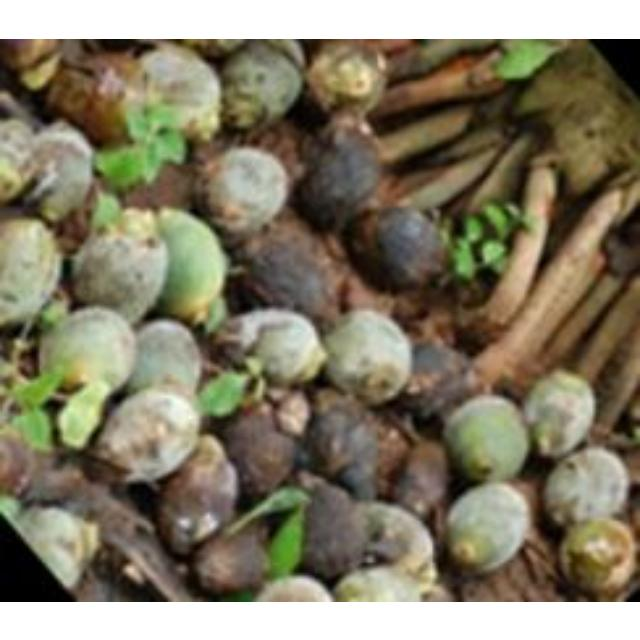damaged: (94, 386, 202, 484), (295, 119, 383, 233), (352, 202, 452, 294), (150, 208, 228, 324), (196, 144, 288, 240), (322, 309, 414, 405), (220, 307, 324, 387), (222, 403, 302, 501), (441, 395, 529, 483), (402, 341, 482, 422), (126, 317, 204, 398), (524, 369, 594, 458), (389, 438, 448, 518)
